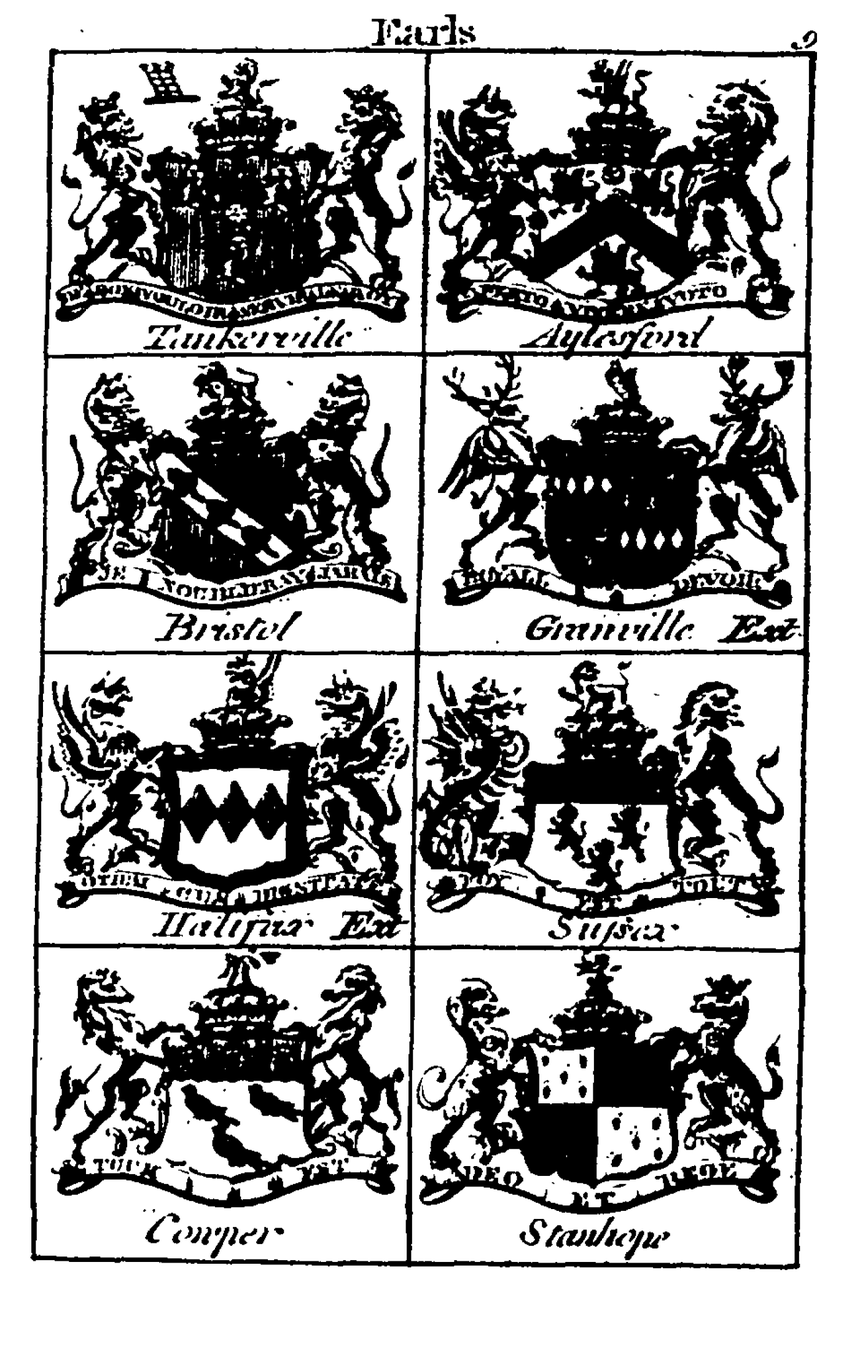coat_of_arms: (429, 959, 788, 1263), (45, 647, 402, 947), (422, 659, 788, 945), (434, 61, 789, 352), (50, 956, 396, 1254), (438, 369, 798, 652), (64, 57, 406, 350), (52, 362, 404, 645)
